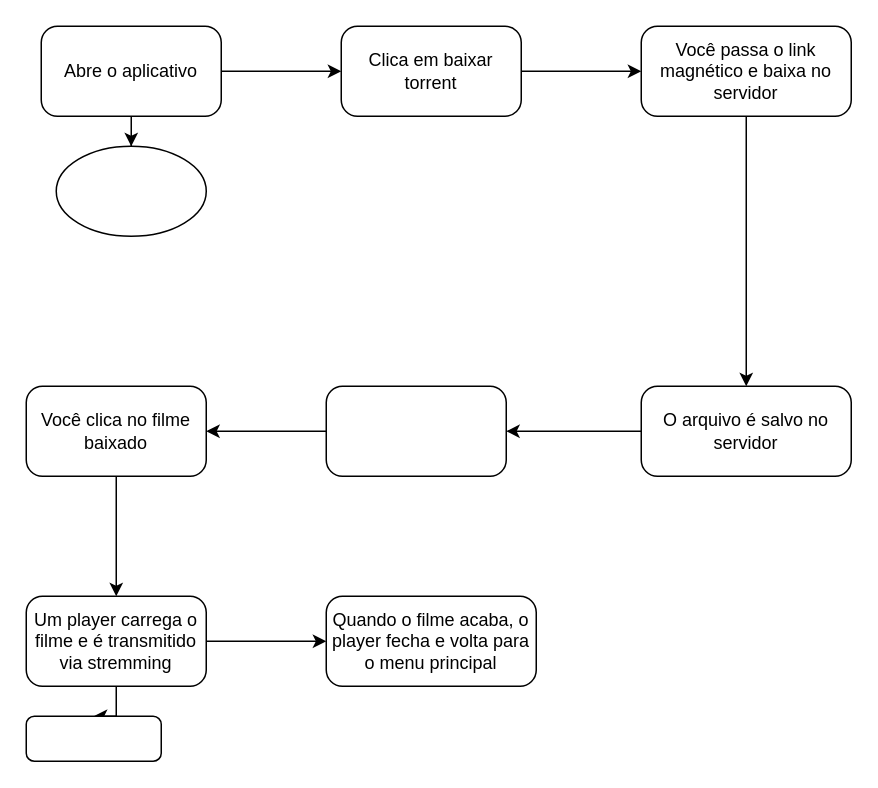
Some shapes in this 878 by 788 pixel diagram are drawn without their labels. Here are the shapes that lost their labels. From the top down, the box of each, then its label:
(55, 145, 206, 236): Site na
(325, 385, 506, 476): Um gerenciador de arquivos mostra os vídeos disponíveis
(25, 715, 161, 761): Botão para alterar idioma Solução
